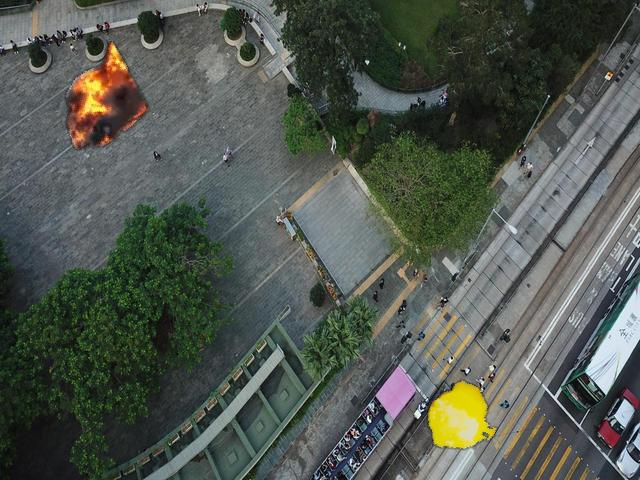fire: (63, 41, 151, 152), (425, 379, 497, 451)
